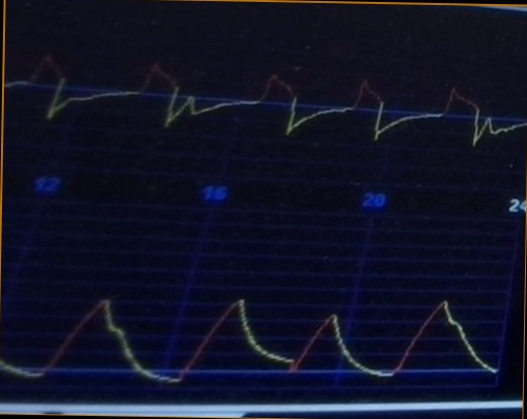Premature_cycling Flow: (4, 47, 526, 161)
Premature_cycling Volume: (2, 279, 497, 394)
